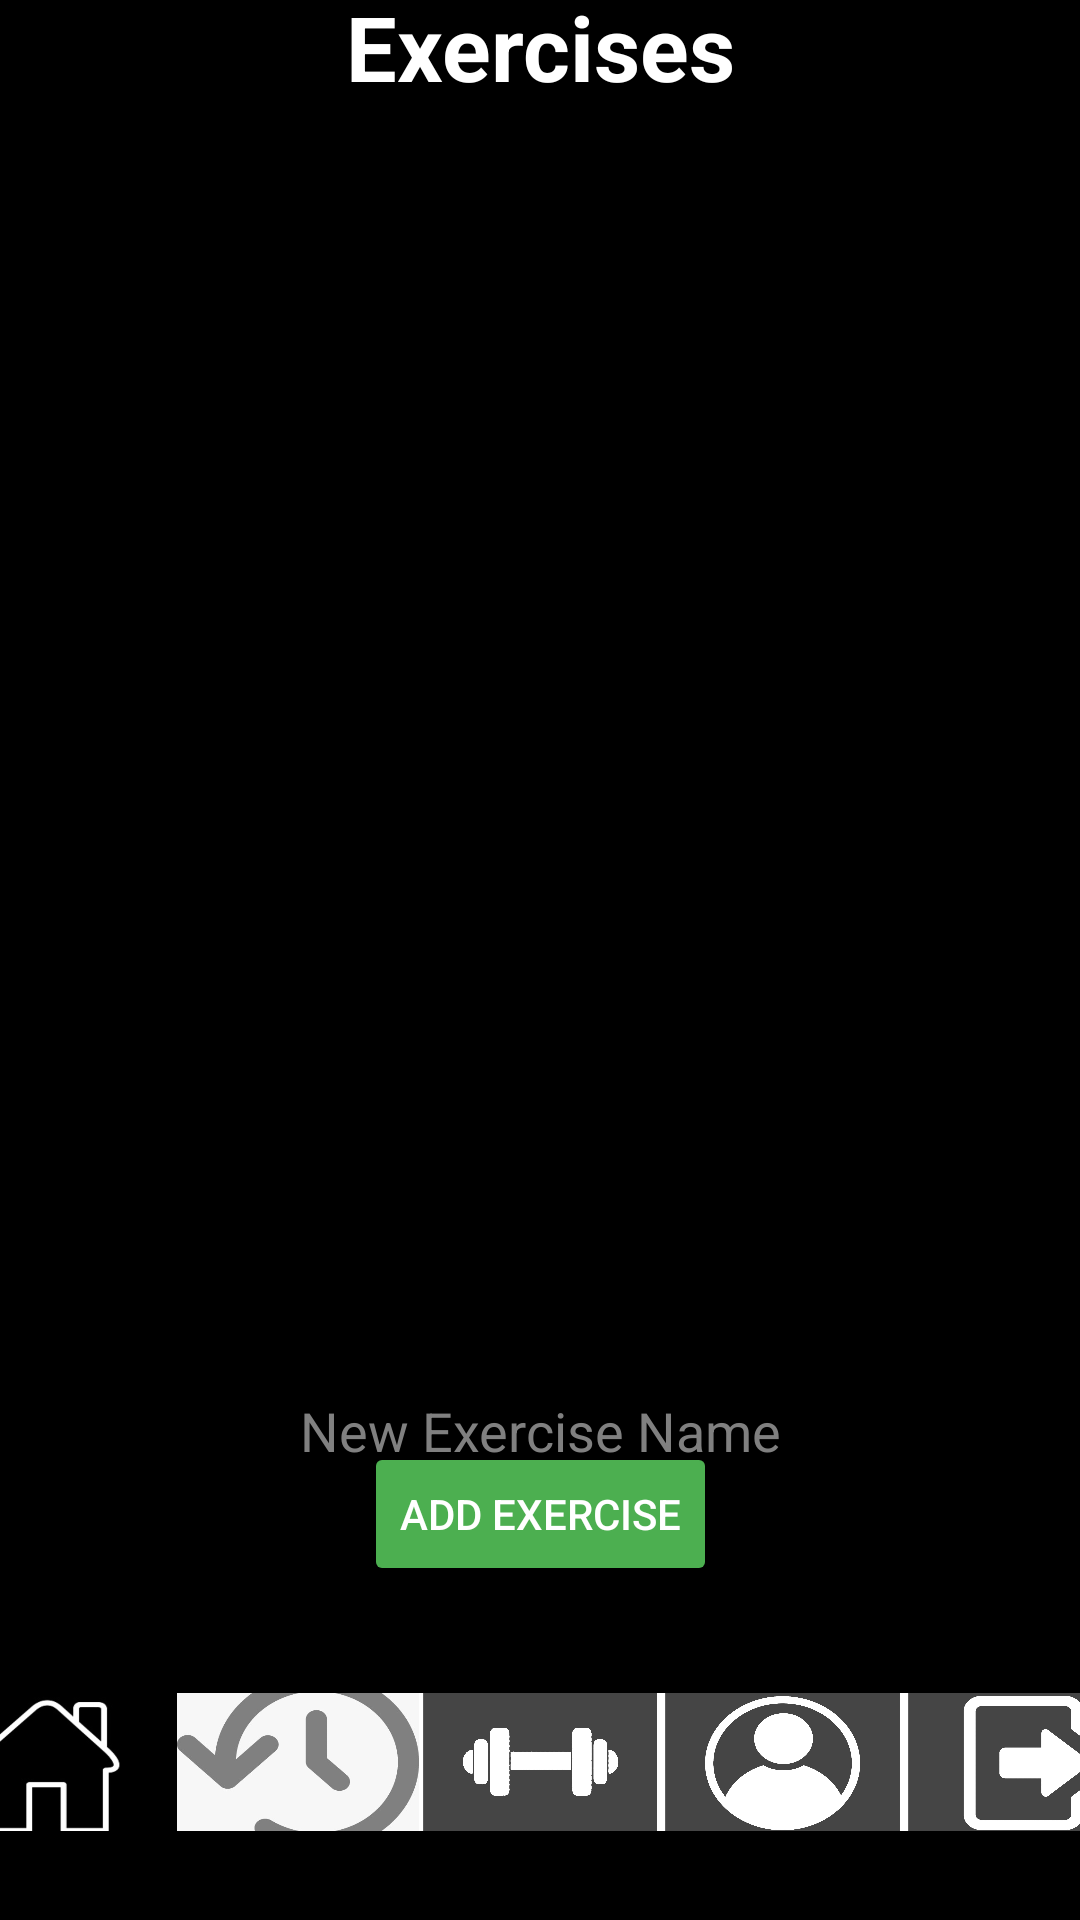

Locate icon controls on the screen. Image size 1080w x 1920h, boxes as (x1, y1, x2, y2).
history: (177, 1693, 419, 1831)
profile: (661, 1693, 904, 1831)
